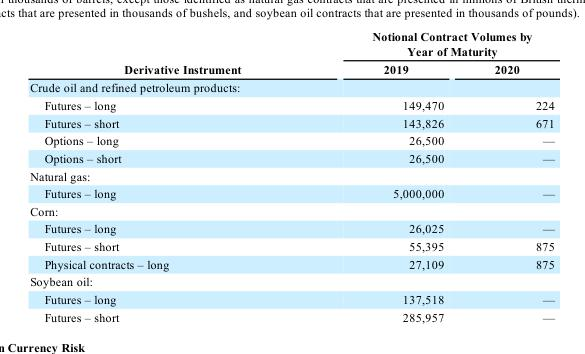table: (29, 29, 554, 323)
table column: (29, 29, 305, 323), (305, 29, 468, 323), (468, 29, 554, 323)
table column header: (29, 29, 554, 78)
table projected row header: (29, 78, 554, 96), (29, 166, 554, 184), (29, 201, 554, 219), (29, 272, 554, 290)
table row: (29, 29, 554, 59), (29, 59, 554, 78), (29, 78, 554, 96), (29, 113, 554, 131), (29, 131, 554, 149), (29, 166, 554, 184), (29, 201, 554, 219), (29, 219, 554, 237), (29, 254, 554, 272), (29, 272, 554, 290), (29, 96, 554, 113), (29, 149, 554, 166), (29, 184, 554, 201), (29, 237, 554, 254), (29, 290, 554, 307), (29, 307, 554, 323)
table spanning cell: (29, 29, 305, 78), (305, 29, 554, 59)
